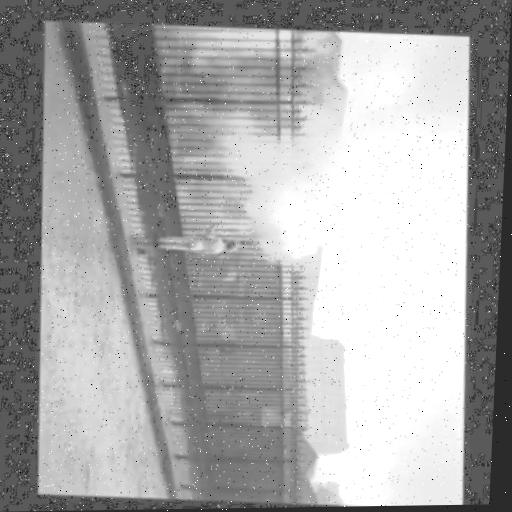balloon: (251, 209, 287, 239)
